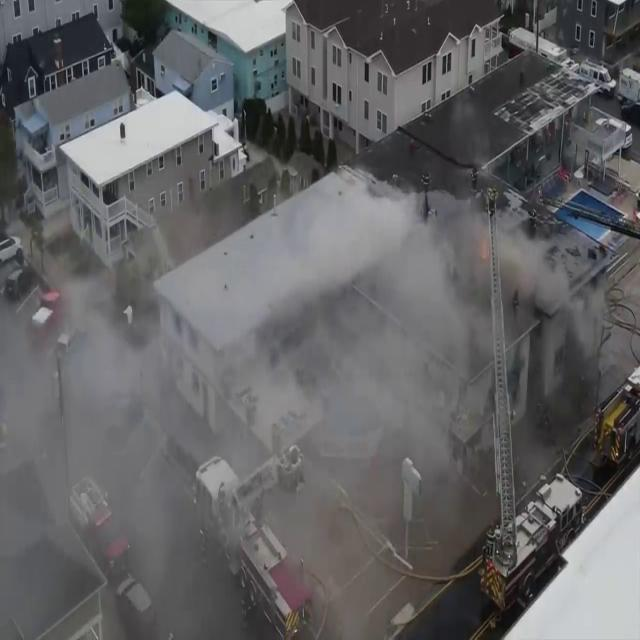Smoke: (329, 143, 611, 508), (0, 218, 209, 634)
